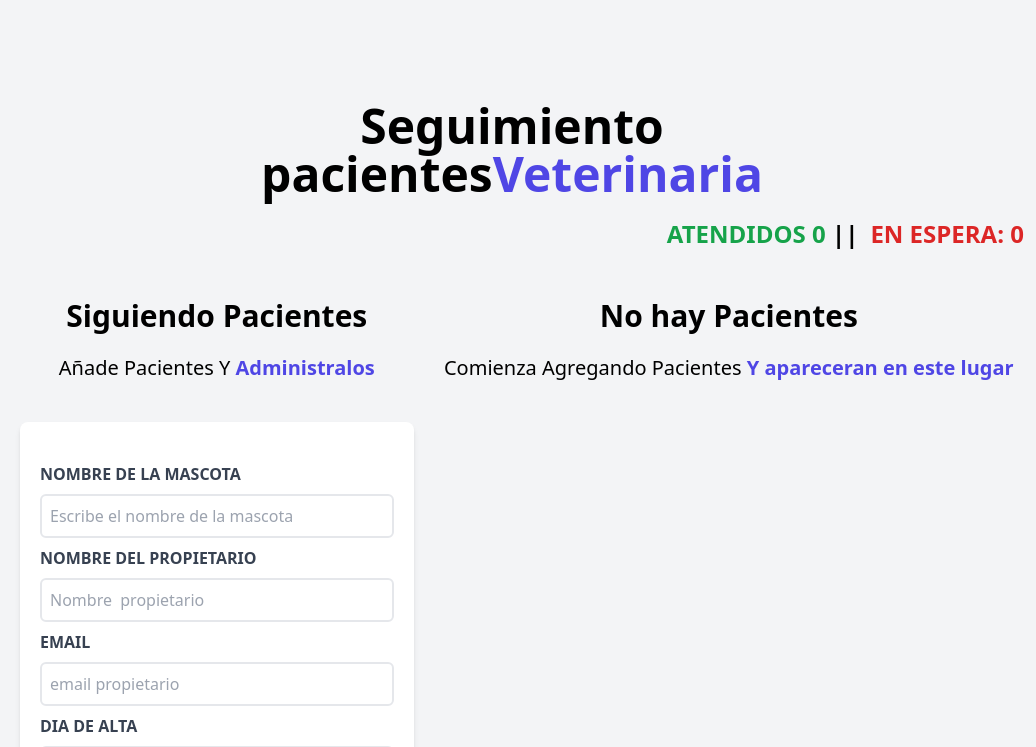
Scenario: form new date › create date
Step 1. Type "pever jr" into the field with id "mascota" → (217, 516), box [40,494,394,538]
Step 2. Type "emanuel de jesus" into the field labelled "Nombre del propietario" → (217, 600), box [40,578,394,622]
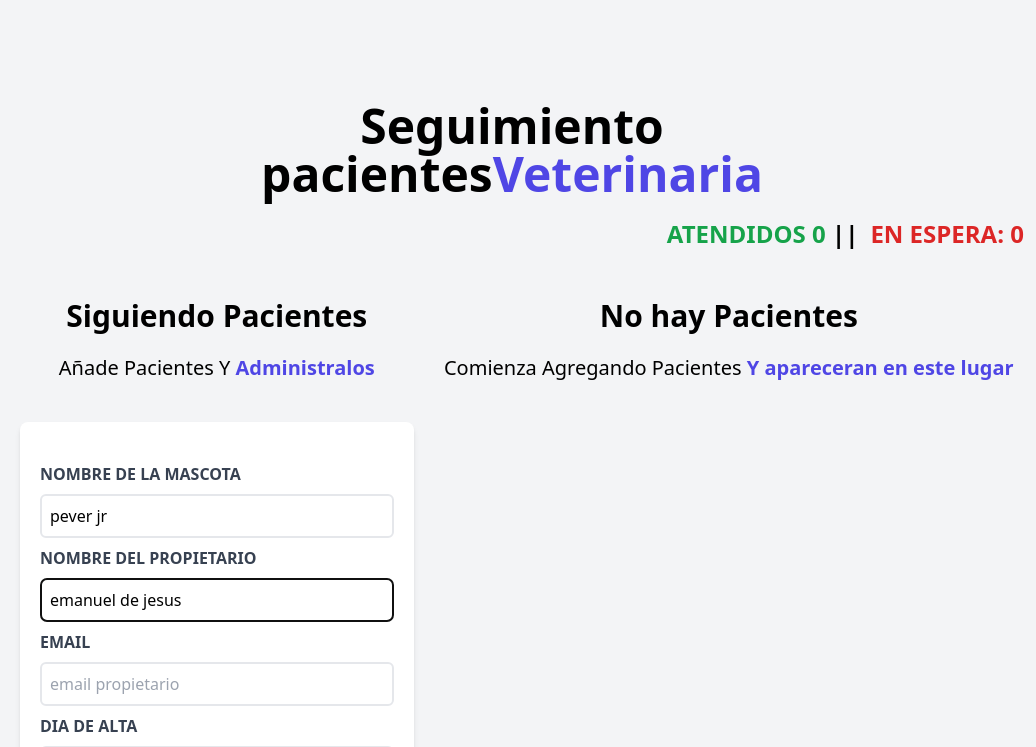
Step 3. Type "correo@correo.com" into the field with id "email" → (217, 684), box [40,662,394,706]
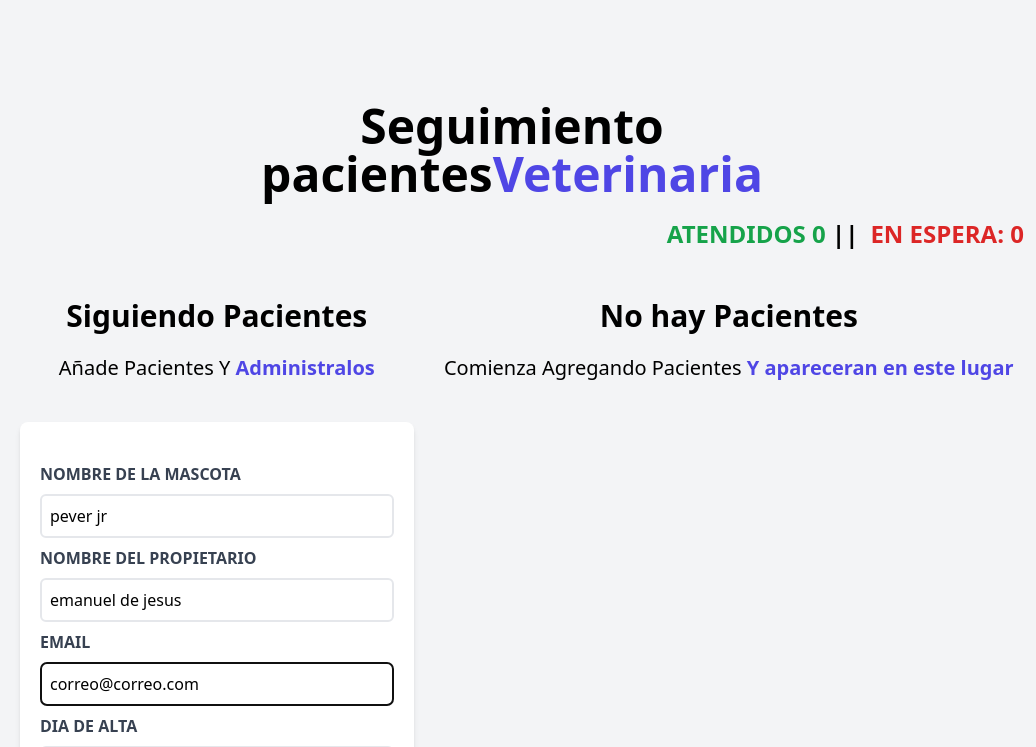
Step 4. Scroll
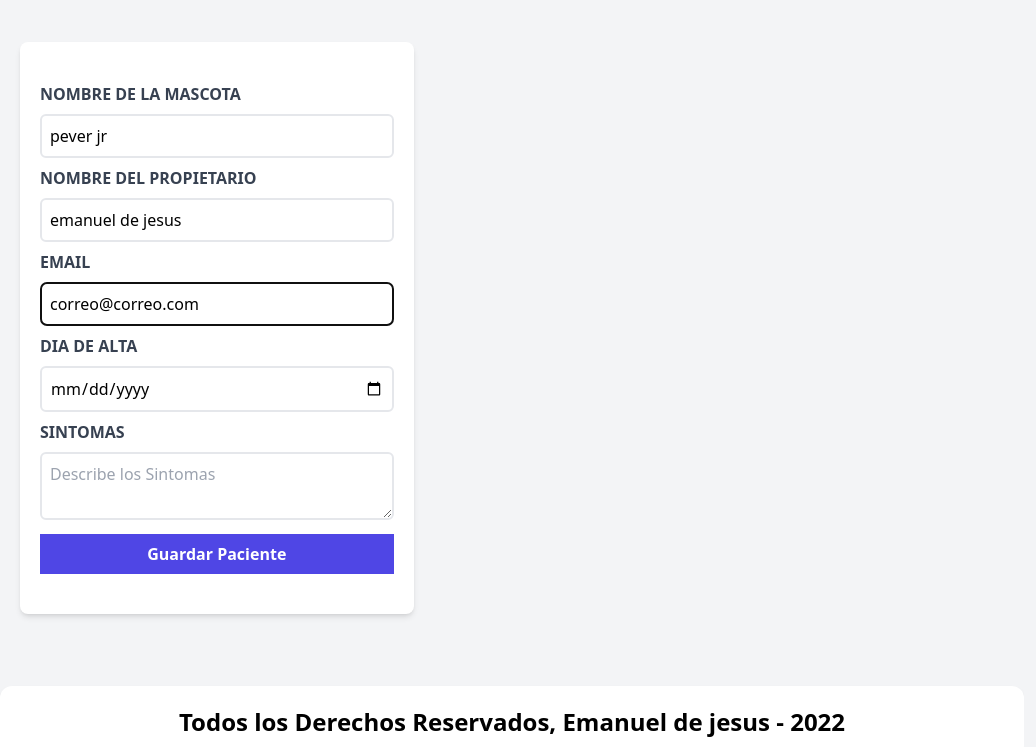
Step 5. Type "2025-02-10" into the date field with id "Alta" → (217, 389), box [40,366,394,412]
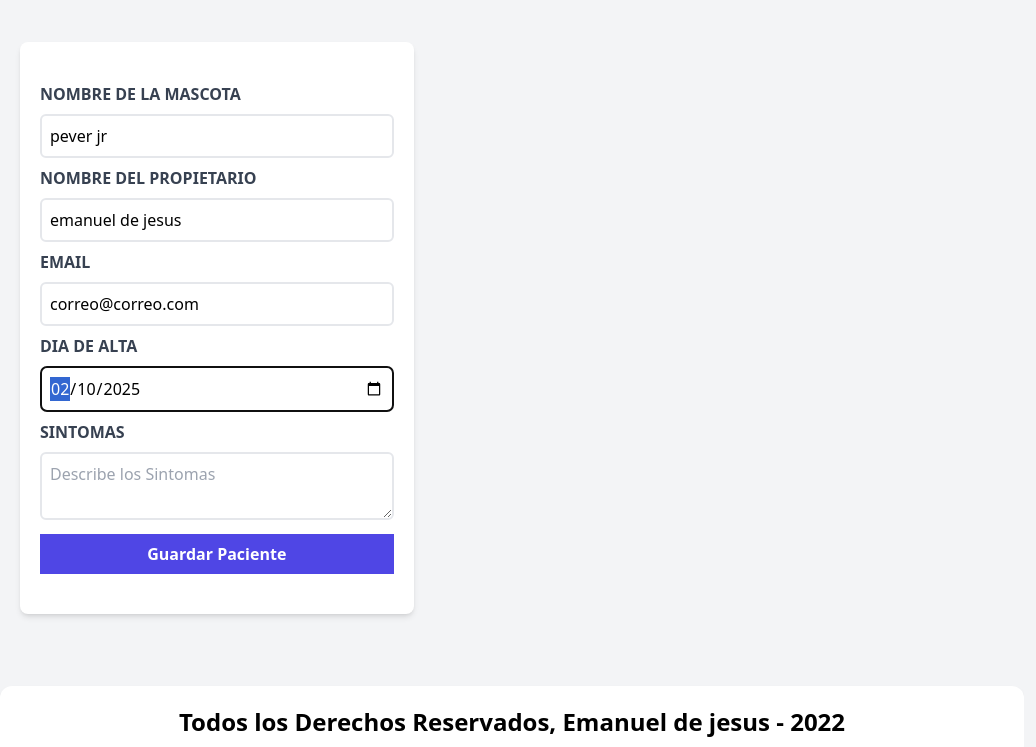
Step 6. Type "No duerme" into the text box with id "Sintomas" → (217, 486), box [40,452,394,520]
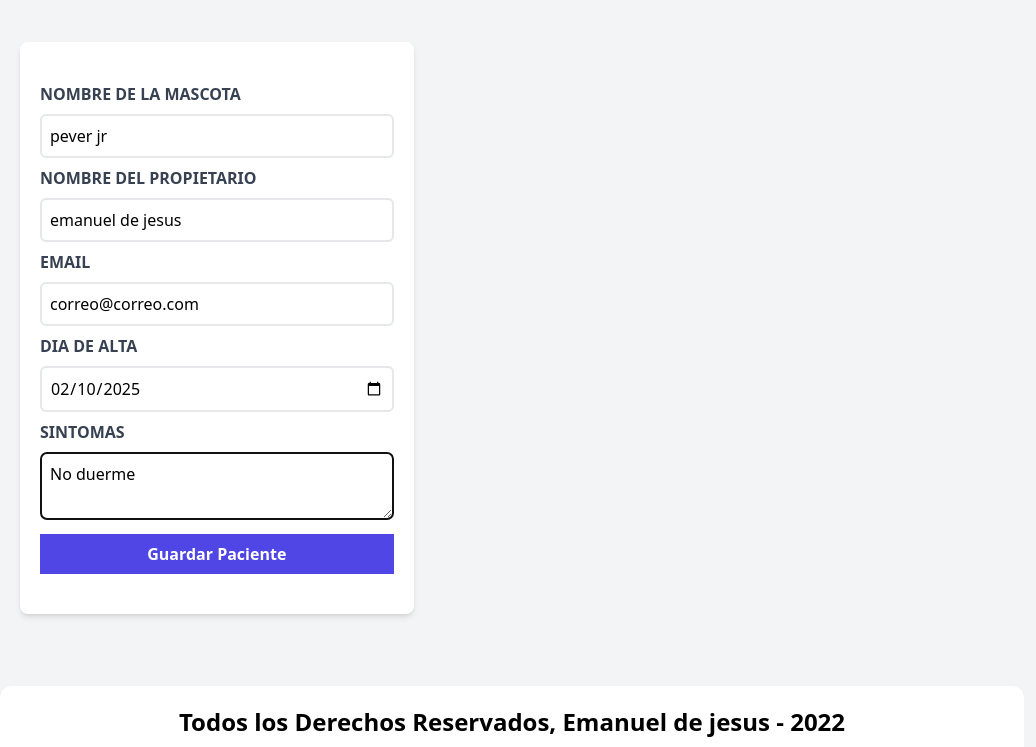
Step 7. Click the submit button → (217, 554), box [40,534,394,574]
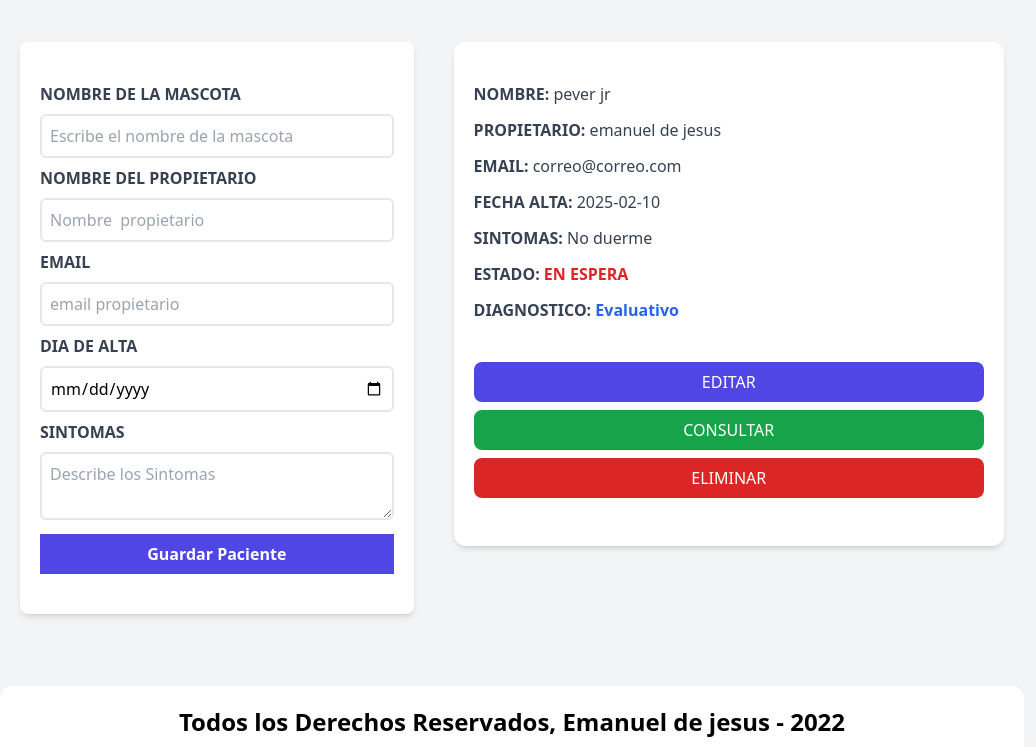
Check: the element that starts with "Nombre:" is shown, box [434,42,1024,546]
